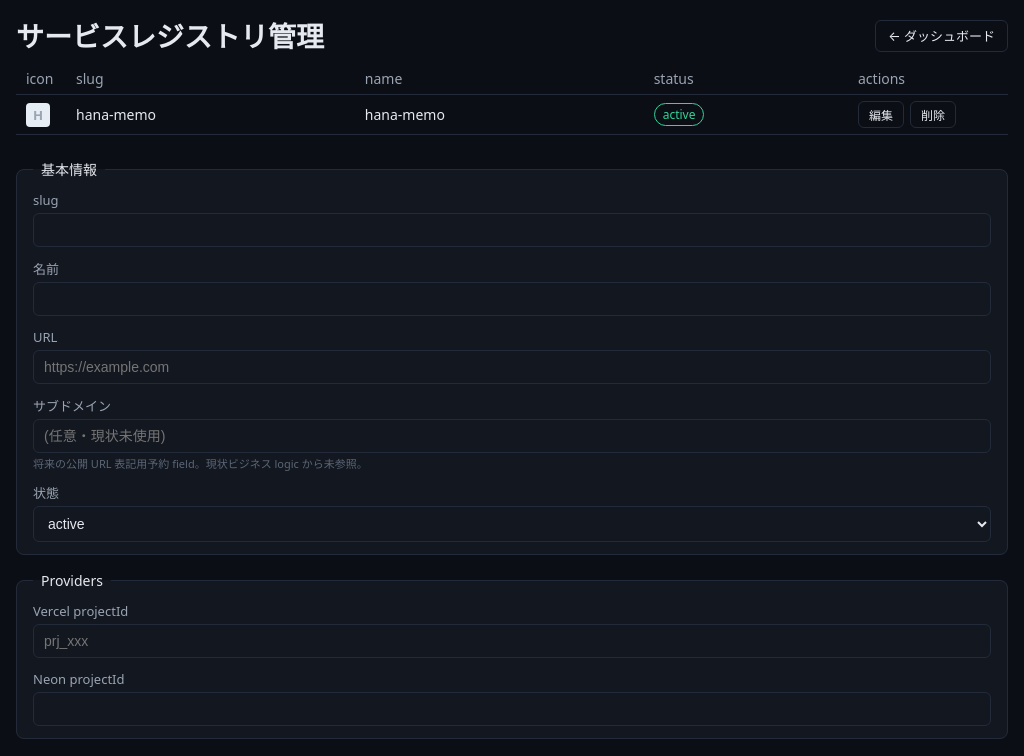
Test: ServicesAdminView (admin form Phase 4) › AF-4: 編集 → slug は readonly、ボタンが更新に
Step 1. Click the button "編集" → (881, 114), box [858,101,904,128]
(page scrolled)
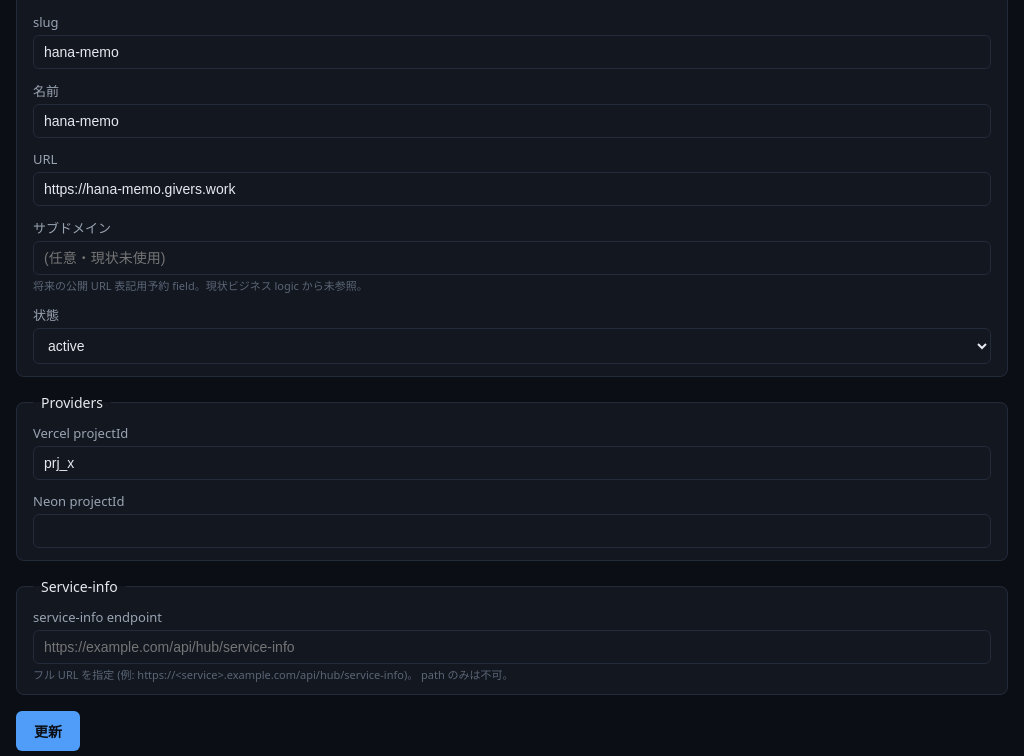
Now the button "更新" is shown, box [16,711,80,751]
